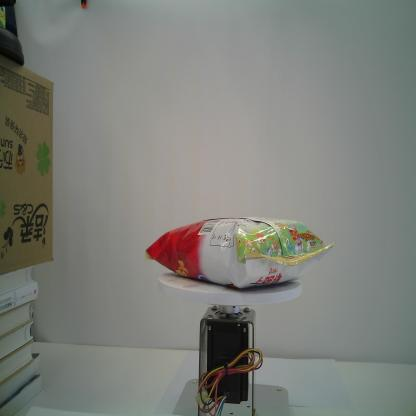Puffed Food: (144, 213, 338, 291)
